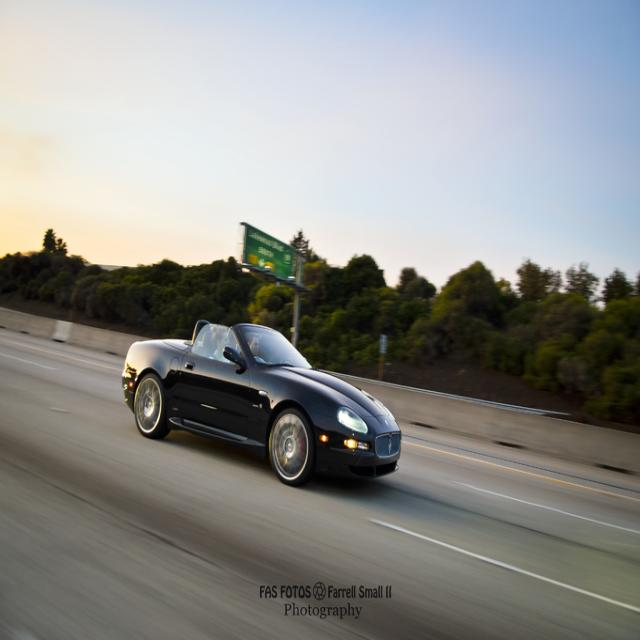car: (120, 315, 402, 482)
